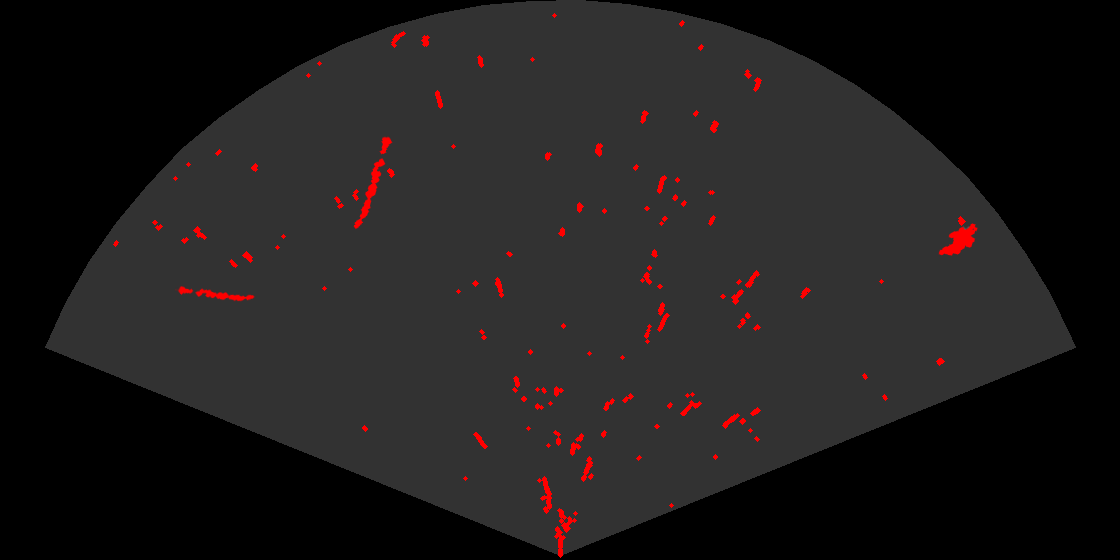AUV: (937, 222, 979, 257)
chain: (352, 135, 394, 230), (175, 285, 256, 303)
